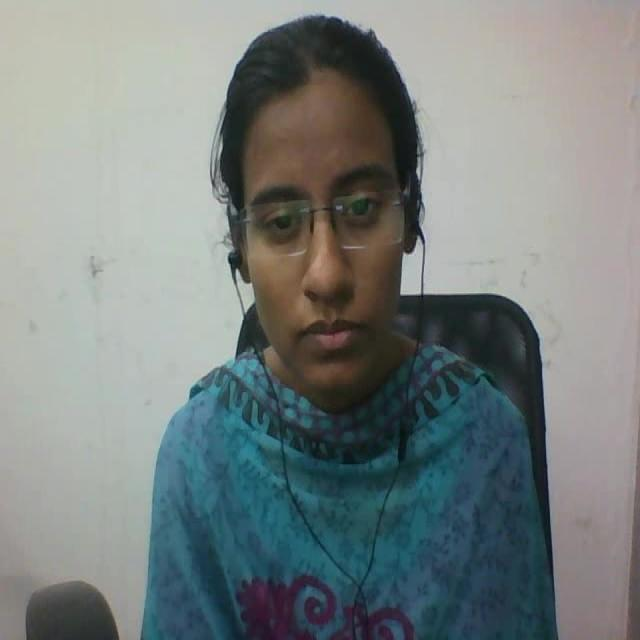Engaged: (180, 0, 473, 398)
